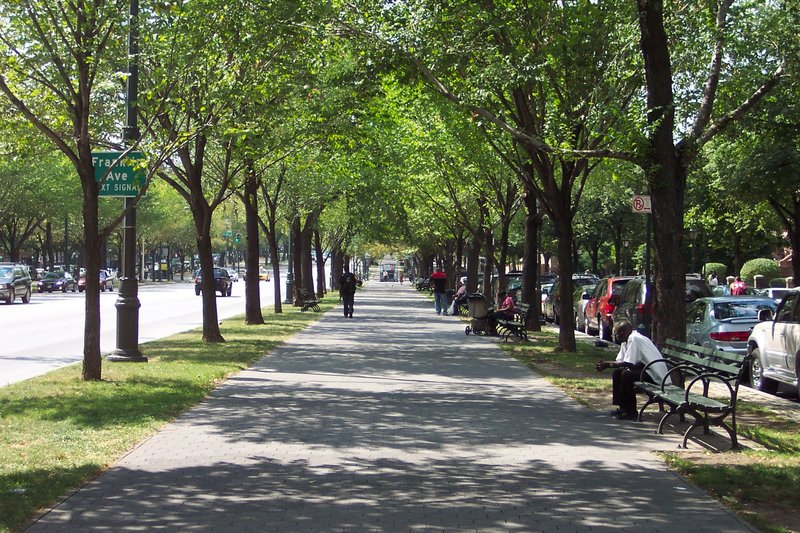tree: (569, 5, 789, 469)
